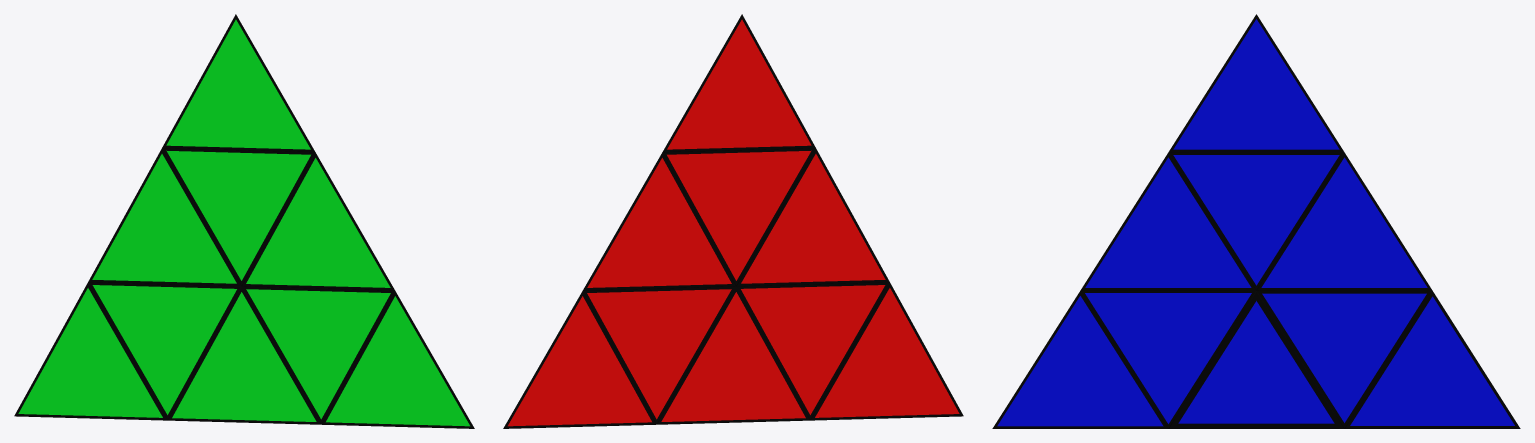
The model's file is delta.glb.
3 views of the same model, side by side, from view 1: azimuth 30°, elevation 25°; view 2: azimuth 150°, elevation 25°; view 3: azimuth 270°, elevation 25° (orthographic). The views are drawn at different scales.
Visible parts, largest first — view 1: blue.green.red, green.red.yellow, green.red, blue.green.red.001, blue.green.yellow, blue.green.yellow.001, green.red.yellow.001, blue.green, green.yellow; view 2: blue.green.red, green.red.yellow, green.red, blue.green.red.001, blue.red.yellow, blue.red.yellow.001, green.red.yellow.001, blue.red, red.yellow; view 3: blue.green.red, blue.green.yellow.001, blue.red.yellow.001, blue.green.red.001, blue.green, blue.red, blue.green.yellow, blue.red.yellow, blue.yellow.
Boxes of the visible parts, box(x1,y1,x2,y2) form: blue.green.red: box(162, 14, 315, 152); green.red.yellow: box(14, 283, 167, 420); green.red: box(88, 148, 240, 286); blue.green.red.001: box(162, 148, 315, 285); blue.green.yellow: box(321, 291, 474, 428); blue.green.yellow.001: box(242, 286, 394, 424); green.red.yellow.001: box(88, 282, 241, 420); blue.green: box(242, 152, 394, 290); green.yellow: box(168, 286, 320, 424); blue.green.red: box(662, 14, 815, 152); green.red.yellow: box(810, 283, 963, 420); green.red: box(737, 148, 889, 286); blue.green.red.001: box(662, 148, 815, 285); blue.red.yellow: box(503, 291, 656, 428); blue.red.yellow.001: box(583, 286, 735, 424); green.red.yellow.001: box(736, 282, 889, 420); blue.red: box(583, 152, 735, 290); red.yellow: box(657, 286, 809, 424); blue.green.red: box(1169, 14, 1343, 152); blue.green.yellow.001: box(1080, 290, 1255, 428); blue.red.yellow.001: box(1257, 290, 1432, 428); blue.green.red.001: box(1168, 152, 1344, 290); blue.green: box(1080, 152, 1256, 290); blue.red: box(1256, 152, 1432, 290); blue.green.yellow: box(992, 291, 1167, 428); blue.red.yellow: box(1345, 291, 1520, 428); blue.yellow: box(1168, 291, 1344, 428).
Bounding box in the file's own units: 124 × 124 × 166.
